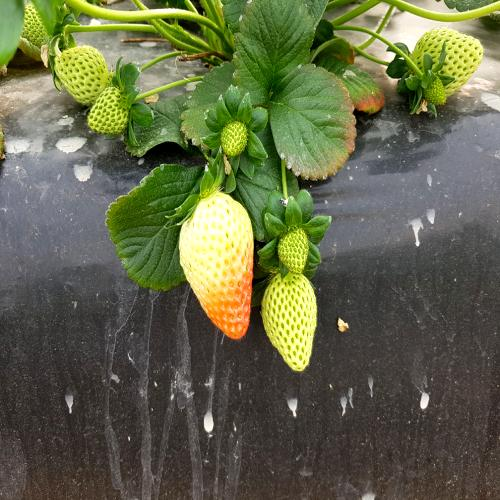partially-ripe: (173, 179, 261, 351)
